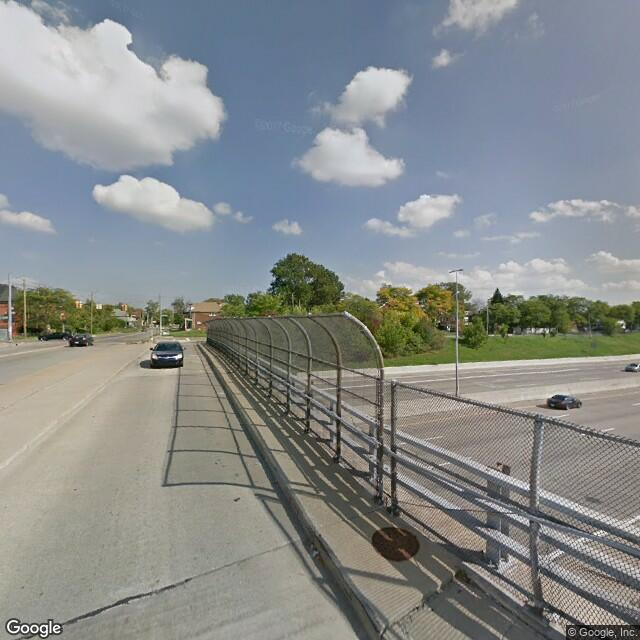litter: (305, 544, 322, 561), (219, 388, 226, 400)
